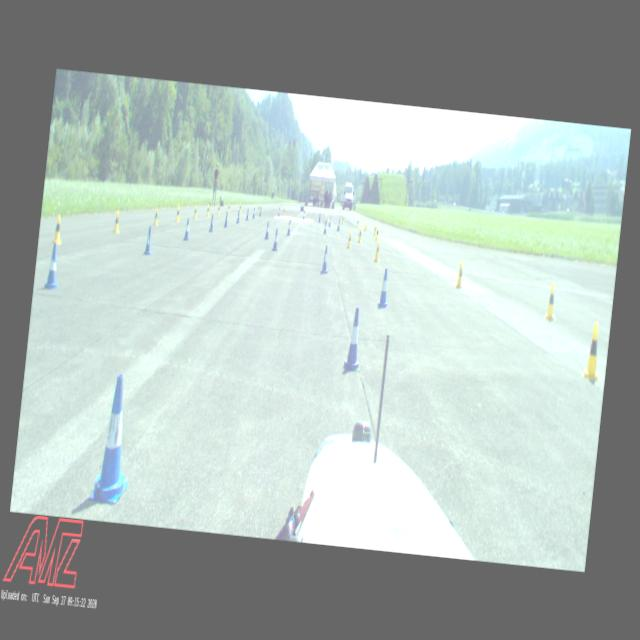blue_cone: (88, 372, 140, 504), (342, 306, 365, 372), (44, 242, 63, 288), (376, 268, 391, 308), (143, 224, 154, 254), (320, 243, 330, 274), (182, 218, 191, 240), (271, 228, 279, 251), (264, 220, 270, 240), (286, 218, 292, 236), (208, 214, 214, 232), (222, 210, 228, 228), (322, 220, 327, 234), (336, 218, 340, 232), (245, 208, 249, 221), (236, 210, 240, 223), (328, 214, 332, 227), (252, 207, 256, 218), (277, 206, 280, 216), (259, 206, 262, 216), (318, 212, 320, 223)
yellow_cone: (580, 322, 606, 381), (542, 280, 559, 322), (454, 259, 465, 290), (52, 213, 63, 243), (112, 209, 121, 233), (373, 239, 381, 262), (152, 207, 160, 226), (346, 229, 352, 248), (175, 204, 181, 221), (192, 204, 198, 219), (357, 226, 362, 243), (374, 226, 380, 240), (205, 203, 211, 216), (373, 222, 377, 235), (363, 220, 367, 232), (238, 202, 242, 212), (217, 203, 220, 216), (356, 217, 359, 228), (341, 214, 344, 224), (282, 206, 285, 215), (257, 204, 260, 213), (326, 212, 329, 221), (227, 204, 230, 212)
